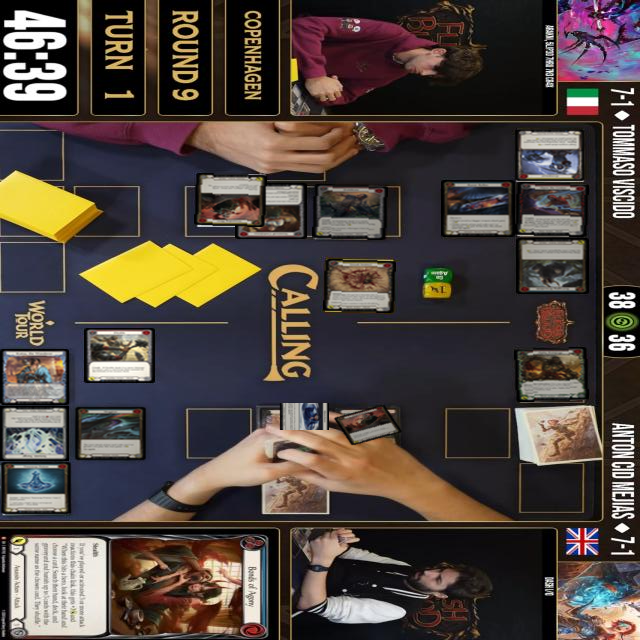Alpha_Rampage_WTR006: (513, 347, 588, 402)
Barraging_Brawnhide_WTR178: (516, 239, 589, 295)
Debilitate_WTR066: (312, 184, 388, 241)
Disable_WTR048: (84, 328, 155, 384)
Katsu,_the_Wanderer_WTR076: (0, 349, 69, 406)
Open_the_Center_WTR095: (515, 183, 589, 238)
Overpower_WTR124: (514, 128, 586, 183)
Quicken_WTR225: (256, 404, 328, 431)
Razor_Reflex_WTR211: (441, 181, 515, 238)
Seismic_Surge_WTR075: (0, 406, 69, 462)
Sloggism_WTR223: (74, 406, 147, 462)
Smash_Instinct_WTR027: (323, 259, 396, 313)
Stonewall_Confidence_WTR072: (235, 183, 307, 239)
Timesnap_Potion_WTR172: (0, 462, 72, 516)
Wounding_Blow_WTR203: (333, 405, 403, 447)
Wounding_Blow_WTR204: (194, 173, 267, 228)
